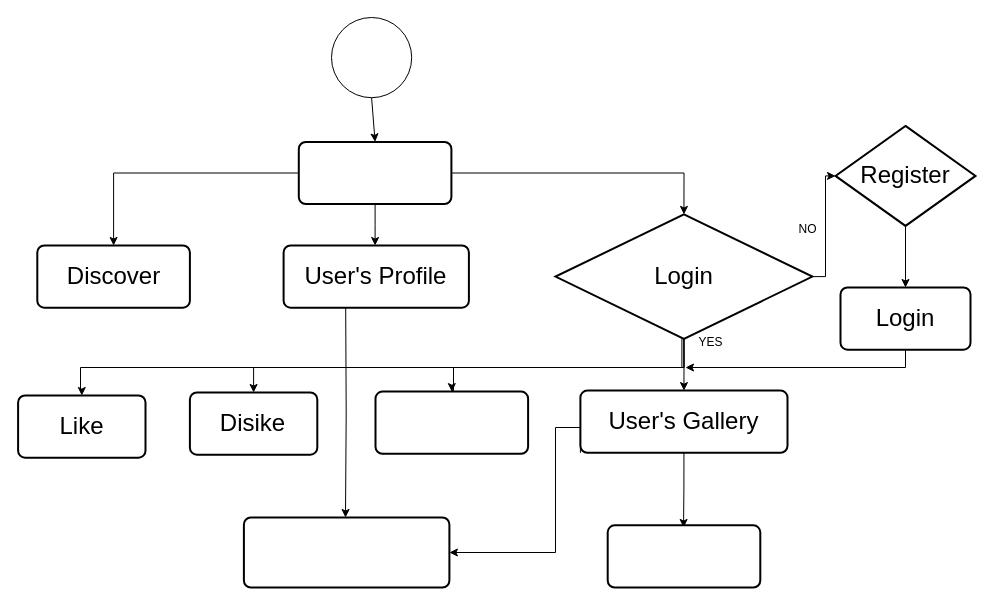
Some shapes in this 994 by 606 pixel diagram are drawn without their labels. Each missing label, with the box of its shape:
Copy Profile Link: (242, 516, 450, 588)
Delete: (606, 524, 761, 588)
HOME: (297, 140, 452, 205)
Upload: (374, 390, 529, 454)
